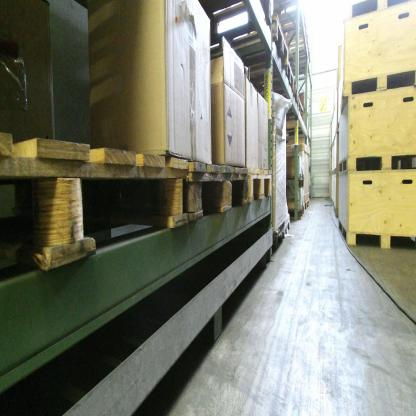pallet: (0, 129, 190, 276), (190, 158, 247, 220), (198, 1, 271, 48), (232, 14, 289, 73), (247, 64, 294, 96), (248, 169, 272, 202), (283, 97, 304, 121), (288, 210, 304, 220), (294, 80, 298, 105), (304, 199, 309, 212)
